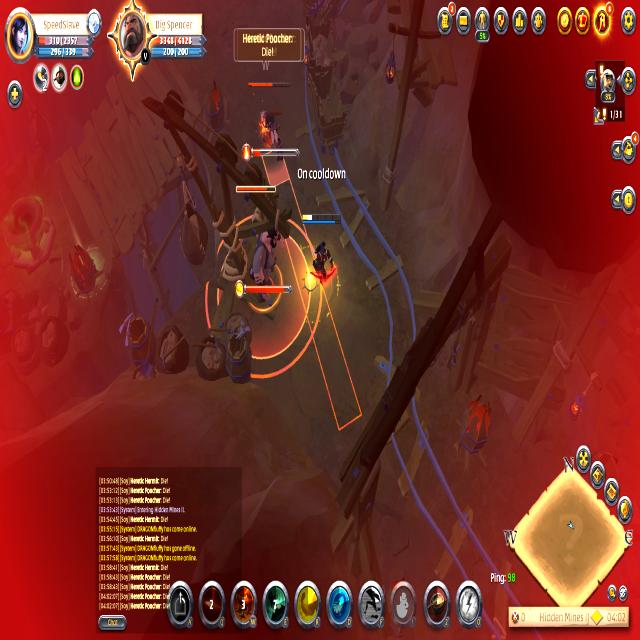ore: (230, 179, 286, 313), (245, 74, 294, 159)
red: (298, 210, 344, 303)
silver: (262, 145, 364, 431), (205, 214, 324, 379)
